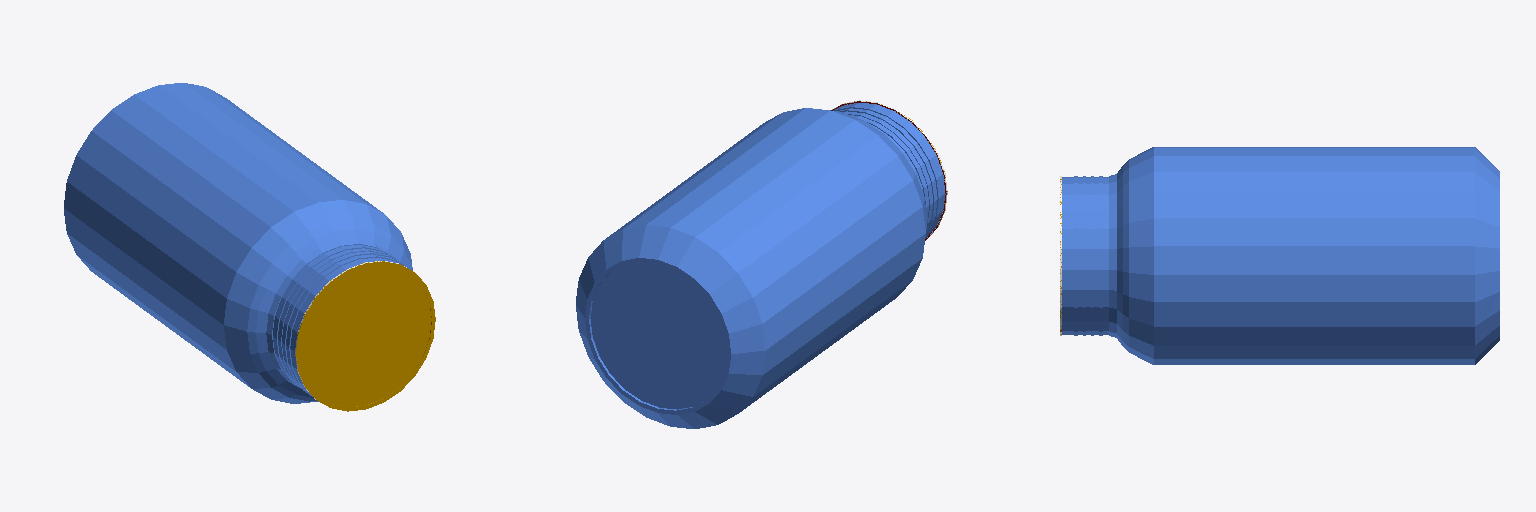
The model's file is model_scale.obj.
3 renders of one model, left to right at view 1: azimuth 30°, elevation 25°; view 2: azimuth 150°, elevation 25°; view 3: azimuth 270°, elevation 25°, orthographic.
Parts seen in each view (by area): view 1: mesh1_mesh1-geometry; view 2: mesh1_mesh1-geometry; view 3: mesh1_mesh1-geometry.
Boxes of the visible parts, <box> form: mesh1_mesh1-geometry: <box>64,83,435,411</box>; mesh1_mesh1-geometry: <box>576,100,947,428</box>; mesh1_mesh1-geometry: <box>1060,147,1499,364</box>.
Bounding box in the file's own units: 0.107 × 0.107 × 0.214.